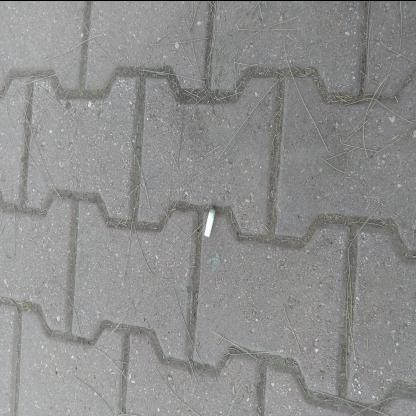diger: (205, 207, 217, 237)
